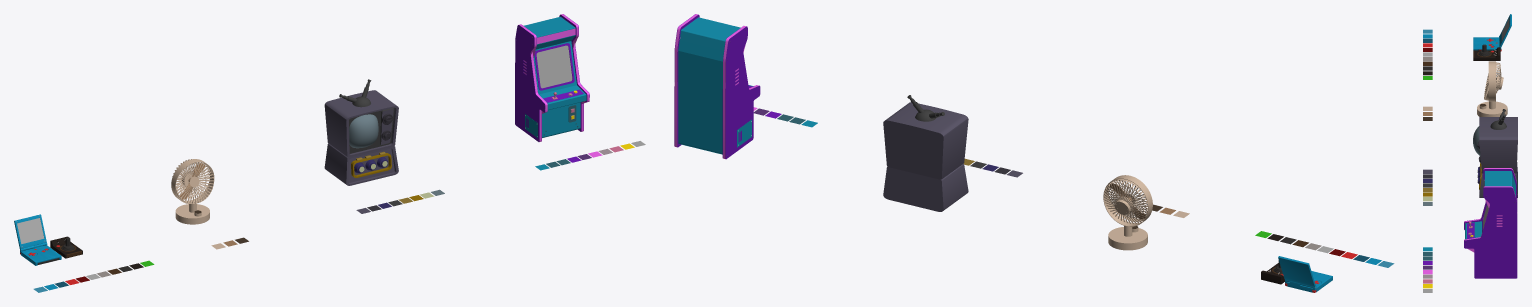
Rendered from painting.fbx.
3 renders of one model, left to right at view 1: azimuth 30°, elevation 25°; view 2: azimuth 150°, elevation 25°; view 3: azimuth 270°, elevation 25°, orthographic. The views are drawn at different scales.
Parts seen in each view (by area): view 1: Cube, Cube.013, Cube.016, Circle.001, Cube.033, Cube.007, Cube.020, Cylinder.004, Cube.031, Circle; view 2: Cube, Cube.013, Cube.016, Circle.001, Cube.020, Cube.033, Cylinder.004, Circle; view 3: Cube.016, Cube, Cube.013, Cylinder.004, Cube.031, Circle, Cube.020, Circle.001, Cube.032, Cube.033, Cube.007, Cube.012 (+2 smaller).
Part boxes in pixels (left/top/right/bottom): Cube: left=324, top=90, right=398, bottom=185; Cube.013: left=523, top=16, right=586, bottom=137; Cube.016: left=515, top=14, right=589, bottom=141; Circle.001: left=172, top=159, right=213, bottom=203; Cube.033: left=14, top=214, right=46, bottom=250; Cube.007: left=349, top=114, right=378, bottom=148; Cube.020: left=519, top=14, right=589, bottom=141; Cylinder.004: left=175, top=204, right=209, bottom=224; Cube.031: left=20, top=242, right=61, bottom=265; Circle: left=171, top=159, right=214, bottom=203; Cube: left=883, top=102, right=968, bottom=211; Cube.013: left=678, top=17, right=753, bottom=154; Cube.016: left=674, top=14, right=760, bottom=159; Circle.001: left=1103, top=179, right=1147, bottom=224; Cube.020: left=674, top=14, right=758, bottom=158; Cube.033: left=1278, top=256, right=1315, bottom=287; Cylinder.004: left=1108, top=227, right=1147, bottom=250; Circle: left=1103, top=175, right=1152, bottom=226; Cube.016: left=1464, top=169, right=1517, bottom=278; Cube: left=1479, top=117, right=1517, bottom=197; Cube.013: left=1465, top=171, right=1515, bottom=239; Cylinder.004: left=1477, top=101, right=1507, bottom=116; Cube.031: left=1473, top=35, right=1501, bottom=50; Circle: left=1488, top=61, right=1495, bottom=101; Cube.020: left=1464, top=168, right=1517, bottom=252; Circle.001: left=1484, top=62, right=1503, bottom=100; Cube.032: left=1473, top=47, right=1500, bottom=60; Cube.033: left=1499, top=14, right=1511, bottom=46; Cube.007: left=1473, top=126, right=1480, bottom=155; Cube.012: left=1490, top=120, right=1506, bottom=129.
Size of the model in its own units: 3077 by 497 by 469.
